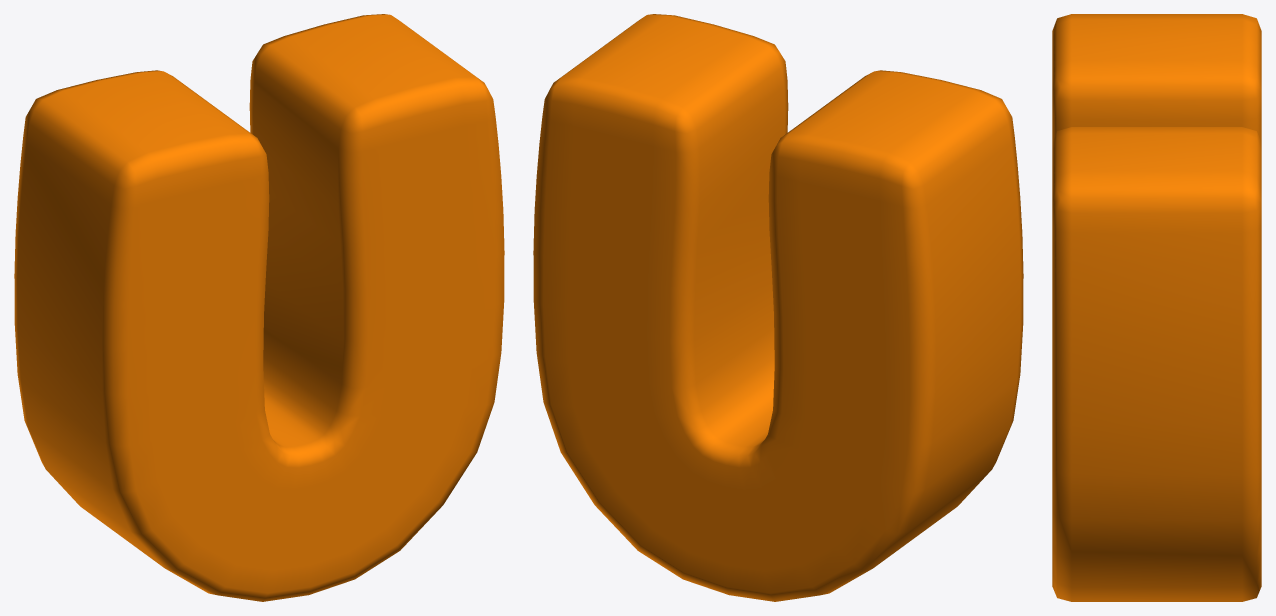
The picture shows the model from 3 angles, left to right: view 1: azimuth 30°, elevation 25°; view 2: azimuth 150°, elevation 25°; view 3: azimuth 270°, elevation 25°; orthographic projection.
Parts seen in each view (by area): view 1: LETTER_U; view 2: LETTER_U; view 3: LETTER_U.
Part boxes in pixels (x1=…): LETTER_U: x1=14, y1=14, x2=504, y2=601; LETTER_U: x1=533, y1=14, x2=1023, y2=601; LETTER_U: x1=1052, y1=14, x2=1261, y2=601.
Bounding box in the file's own units: 0.8737 × 1 × 0.3921.
